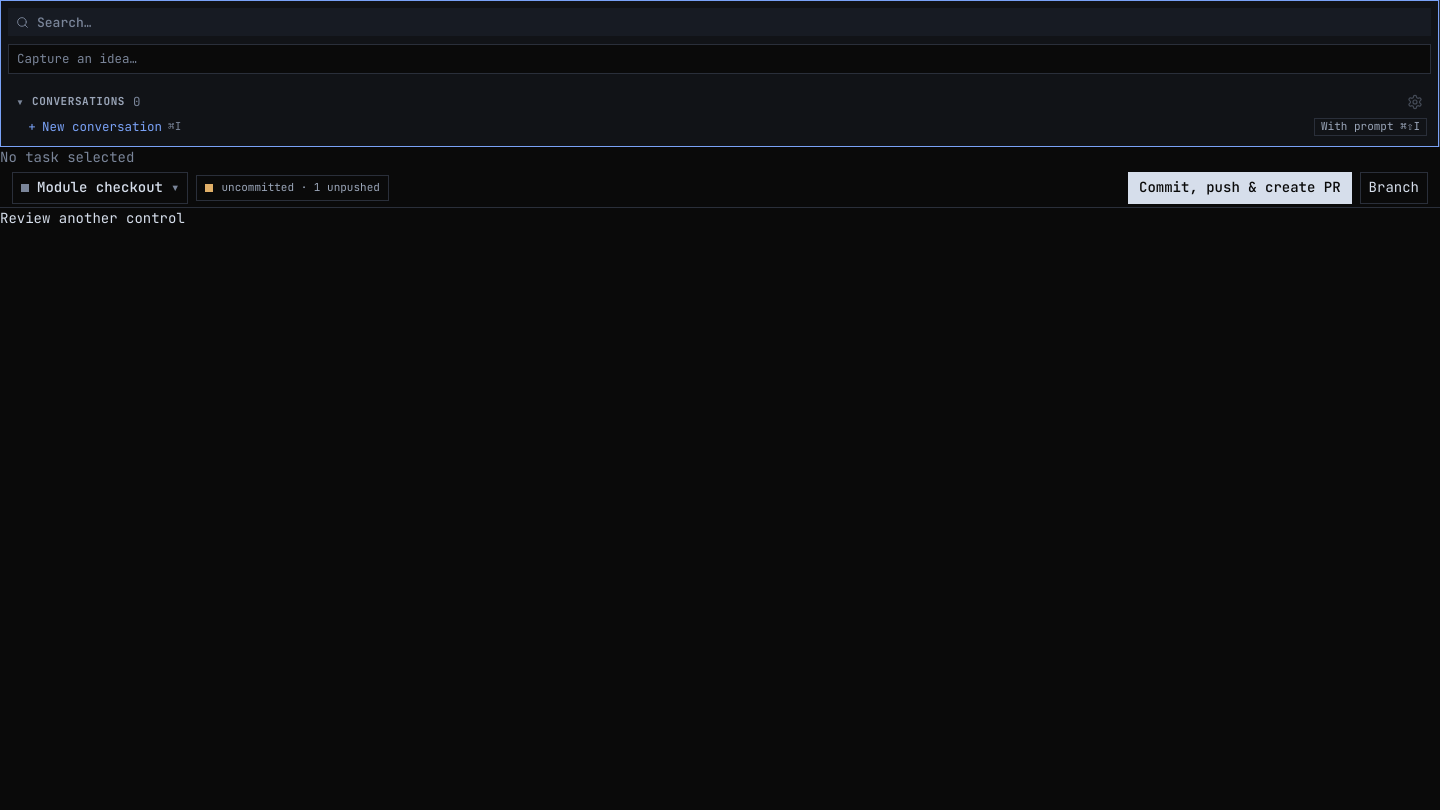
Test: overhaul acceptance - stacked Changes actions › reports the failing step and runs nothing after it
Step 1. Click the button with aria-label "Commit, push & create PR on feature/changes" → (1240, 188), box [1128,172,1352,204]
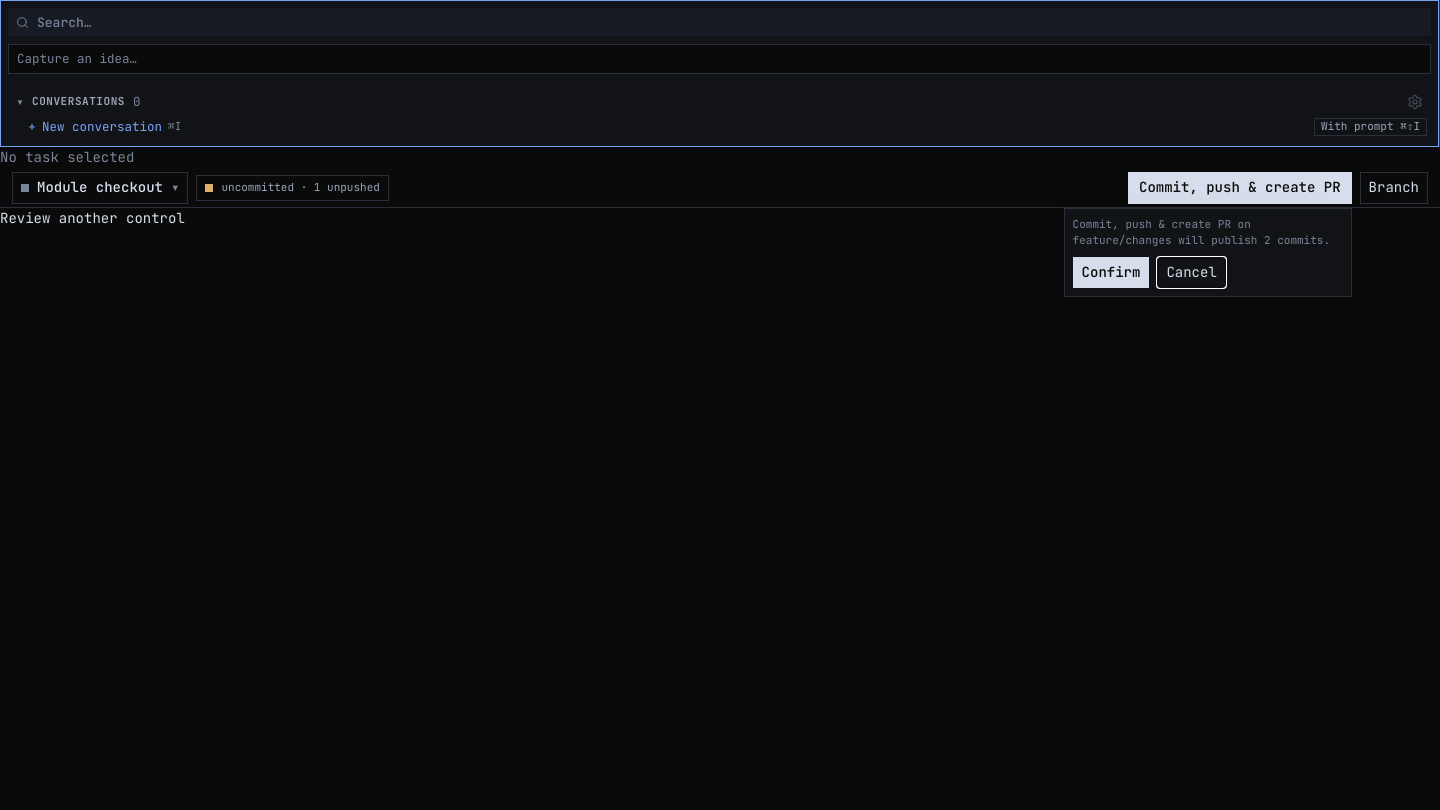
Step 2. Click the button "Confirm" → (1111, 273), box [1073,257,1149,288]
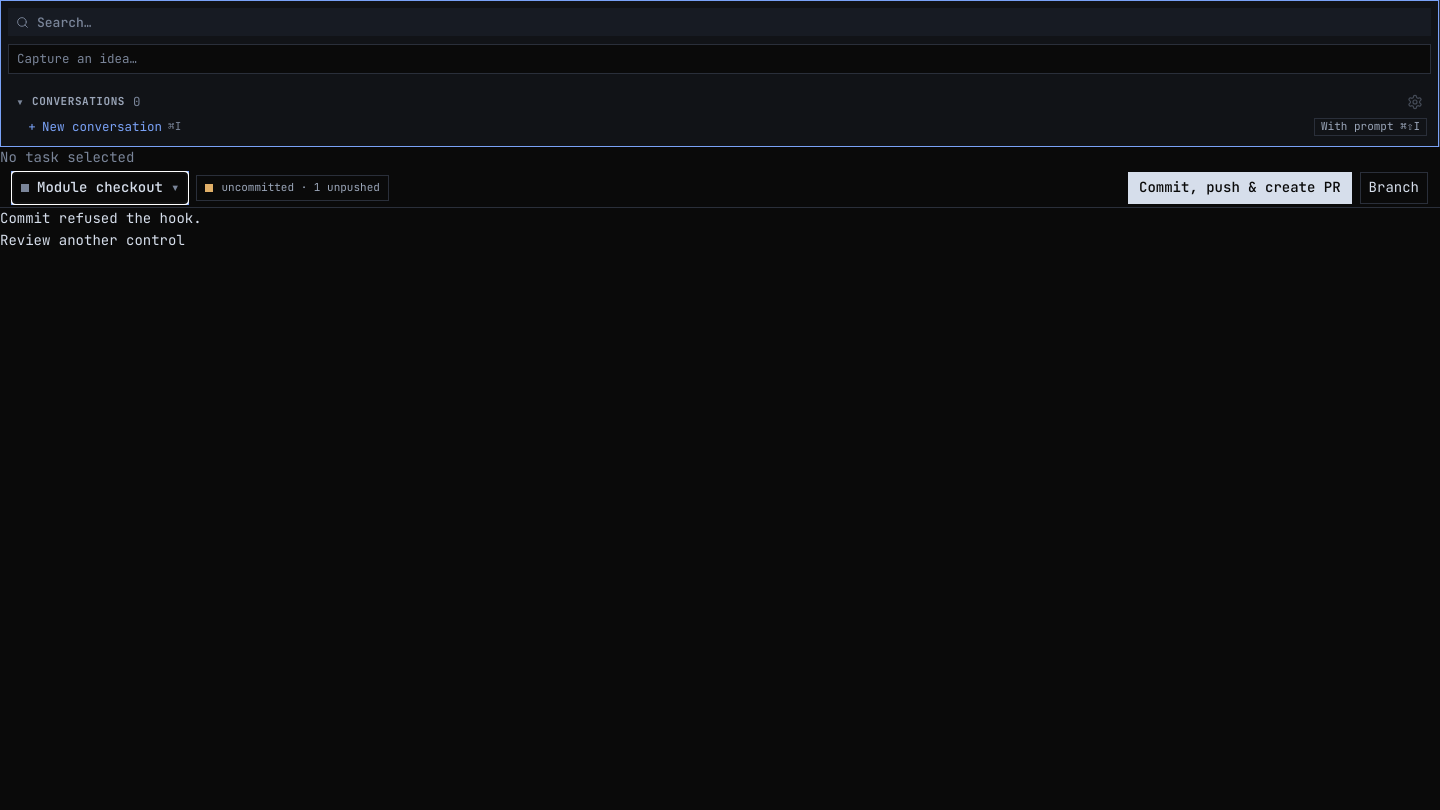
Expected: the message reads "Commit refused the hook.", [0,209,202,227]
